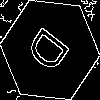D: (25, 25, 78, 81)
